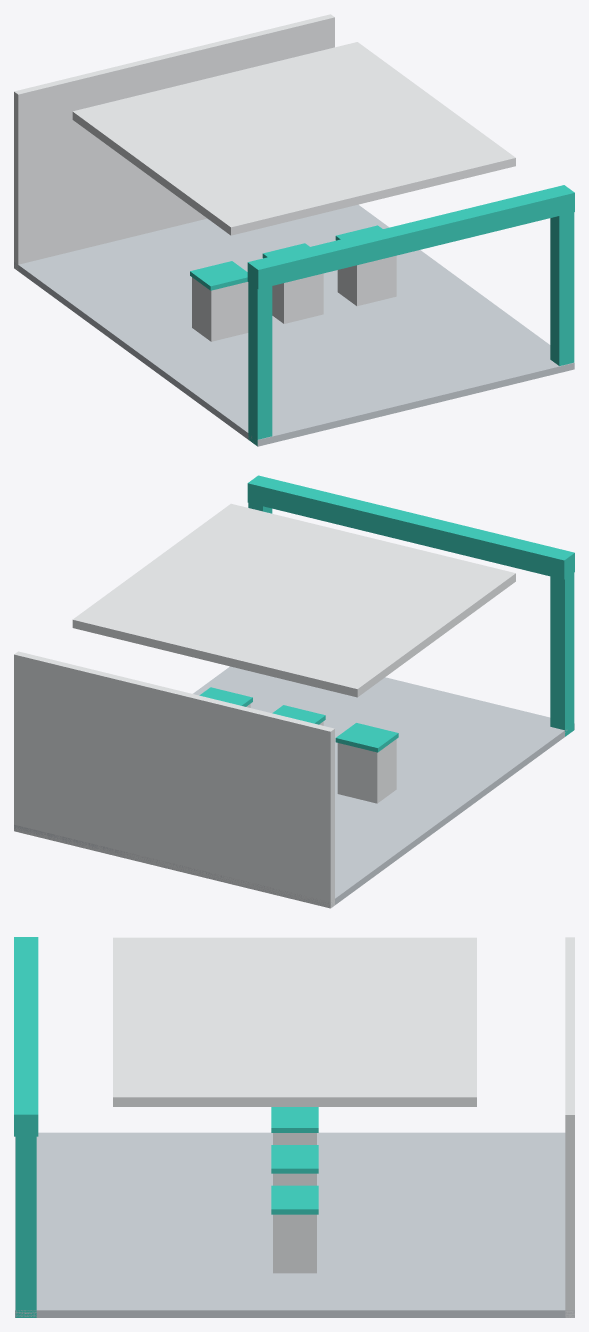
3 renders of one model, top to bottom at view 1: azimuth 30°, elevation 25°; view 2: azimuth 150°, elevation 25°; view 3: azimuth 270°, elevation 25°, orthographic. The views are drawn at different scales.
Visible parts, largest first — view 1: Exhibition Booth Concept; view 2: Exhibition Booth Concept; view 3: Exhibition Booth Concept.
Part boxes in pixels (x1,y1,x2,y2): Exhibition Booth Concept: (14,14,574,446); Exhibition Booth Concept: (14,475,574,908); Exhibition Booth Concept: (14,937,574,1317).
Bounding box in the file's own units: 6 × 3.34 × 8.01.
